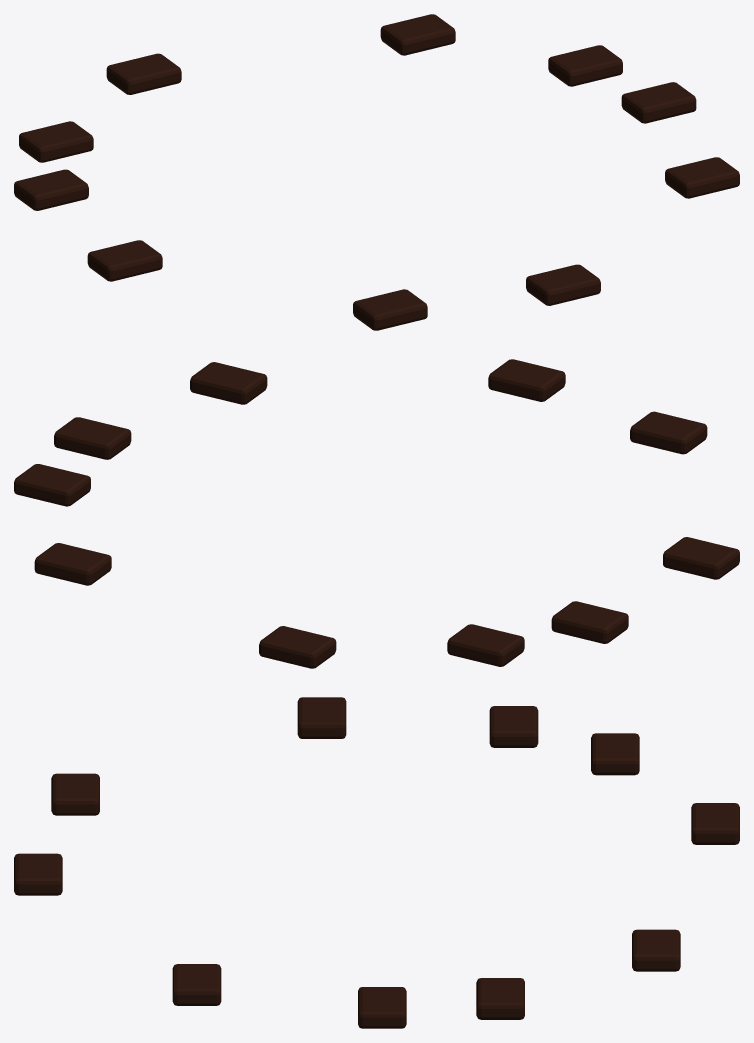
File: fire_charcoal_embers.glb
3 renders of one model, top to bottom at view 1: azimuth 30°, elevation 25°; view 2: azimuth 150°, elevation 25°; view 3: azimuth 270°, elevation 25°, orthographic. The views are drawn at different scales.
Parts seen in each view (by area): view 1: fire_charcoal_embers; view 2: fire_charcoal_embers; view 3: fire_charcoal_embers.
Part boxes in pixels (x1=…): fire_charcoal_embers: x1=14, y1=14, x2=739, y2=330; fire_charcoal_embers: x1=14, y1=359, x2=739, y2=668; fire_charcoal_embers: x1=14, y1=697, x2=739, y2=1028.
Bounding box in the file's own units: 0.4796 × 0.012 × 0.4626.
